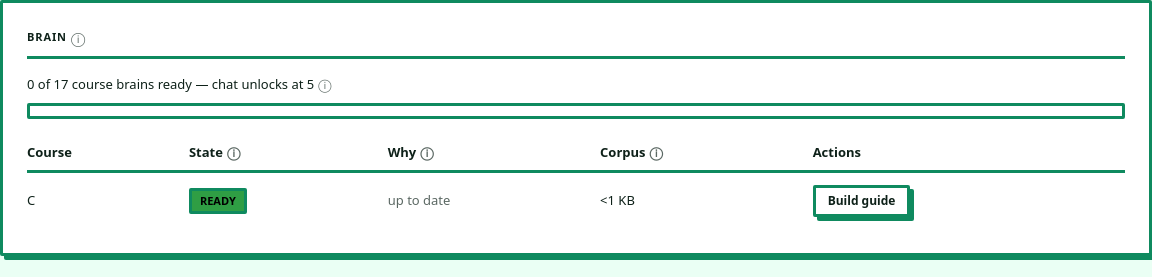
the progress-bar header carries an InfoTip interpolating chatUnlockAt
This screenshot has width=1152, height=277.
Click the button named "about the brain progress bar" at (325, 85), box x1=318 y1=75 x2=332 y2=94
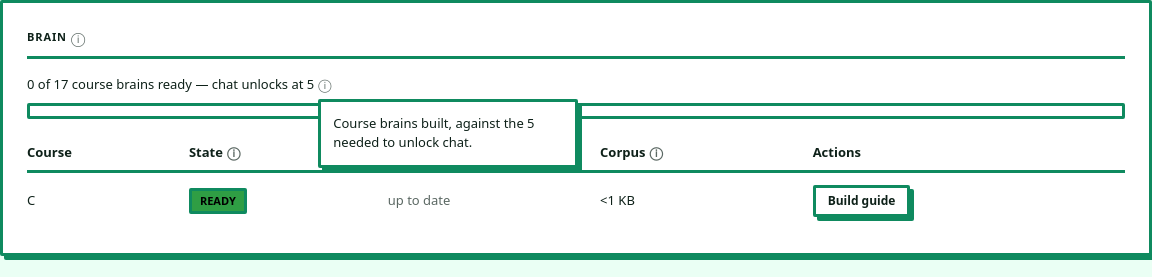
Expected: the tooltip reads "Course brains built, against the 5 needed to unlock chat.", x1=318 y1=98 x2=578 y2=168
